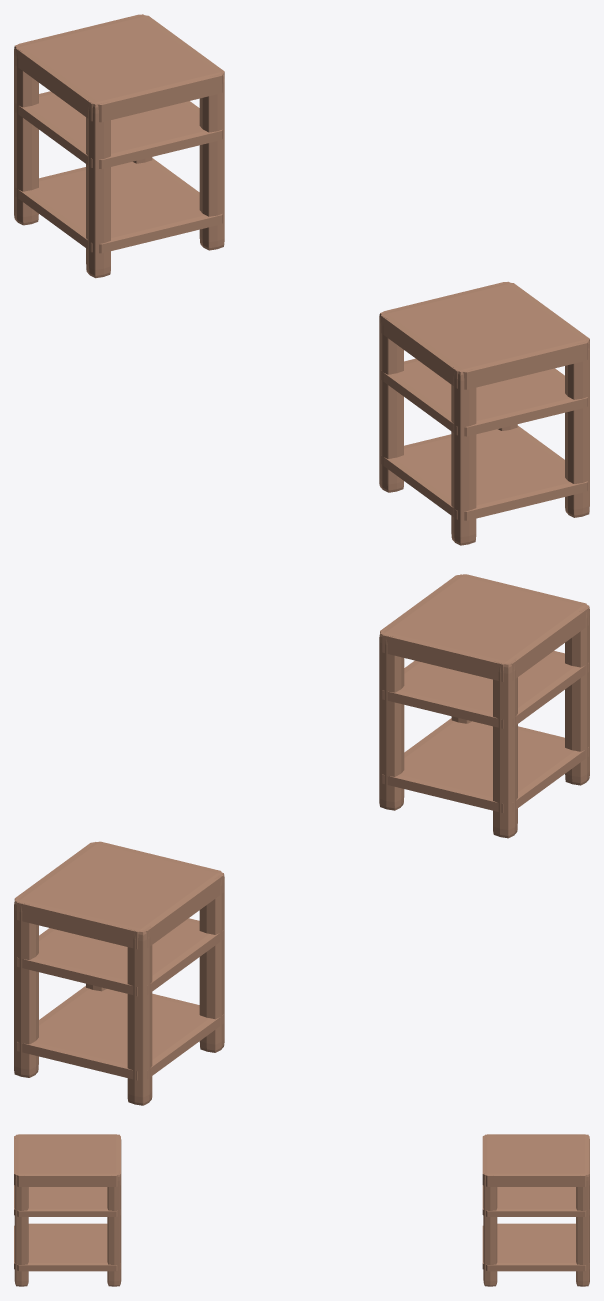
Rendered from Nightstands.fbx.
3 renders of one model, top to bottom at view 1: azimuth 30°, elevation 25°; view 2: azimuth 150°, elevation 25°; view 3: azimuth 270°, elevation 25°, orthographic. The views are drawn at different scales.
Visible parts, largest first — view 1: Nightstand left, Nightstand right; view 2: Nightstand left, Nightstand right; view 3: Nightstand right, Nightstand left.
Part boxes in pixels (bbox=[...]): Nightstand left: bbox=[14, 14, 224, 278]; Nightstand right: bbox=[379, 281, 589, 545]; Nightstand left: bbox=[14, 841, 224, 1105]; Nightstand right: bbox=[379, 574, 589, 838]; Nightstand right: bbox=[14, 1134, 121, 1286]; Nightstand left: bbox=[482, 1134, 589, 1286].
Size of the model in its own units: 93.45 by 116 by 545.
